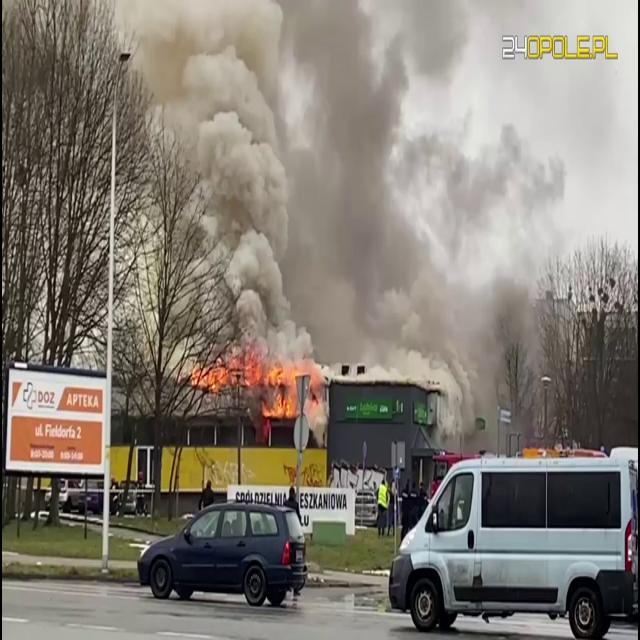Fire: (189, 344, 319, 419)
Smoke: (137, 0, 433, 349), (316, 1, 562, 403)
